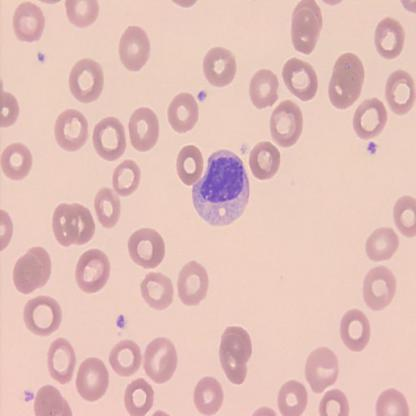Metamyelocyte: (191, 146, 251, 228)
